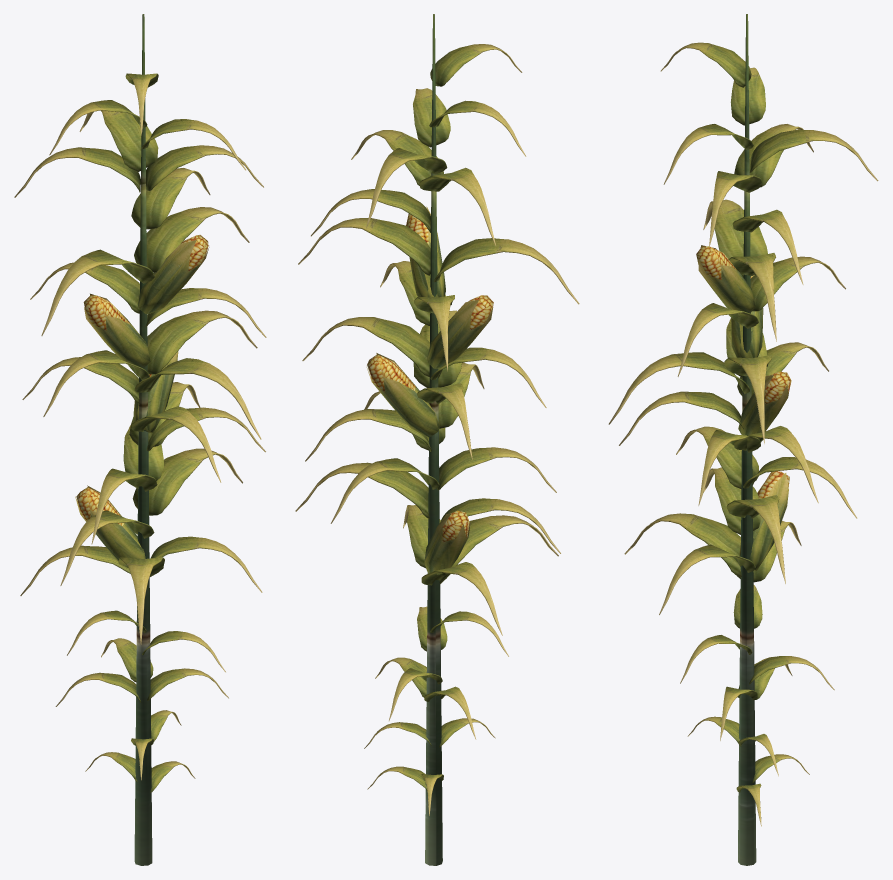
Rendered from corn.obj.
The picture shows the model from 3 angles, left to right: view 1: azimuth 30°, elevation 25°; view 2: azimuth 150°, elevation 25°; view 3: azimuth 270°, elevation 25°; orthographic projection.
Visible parts, largest first — view 1: Cylinder; view 2: Cylinder; view 3: Cylinder.
Part boxes in pixels (x1=…): Cylinder: x1=14, y1=14, x2=266, y2=865; Cylinder: x1=295, y1=14, x2=579, y2=865; Cylinder: x1=608, y1=14, x2=878, y2=865.
Size of the model in its own units: 2.52 by 8.27 by 2.39.
Materials: 3 (3 with a texture image).
